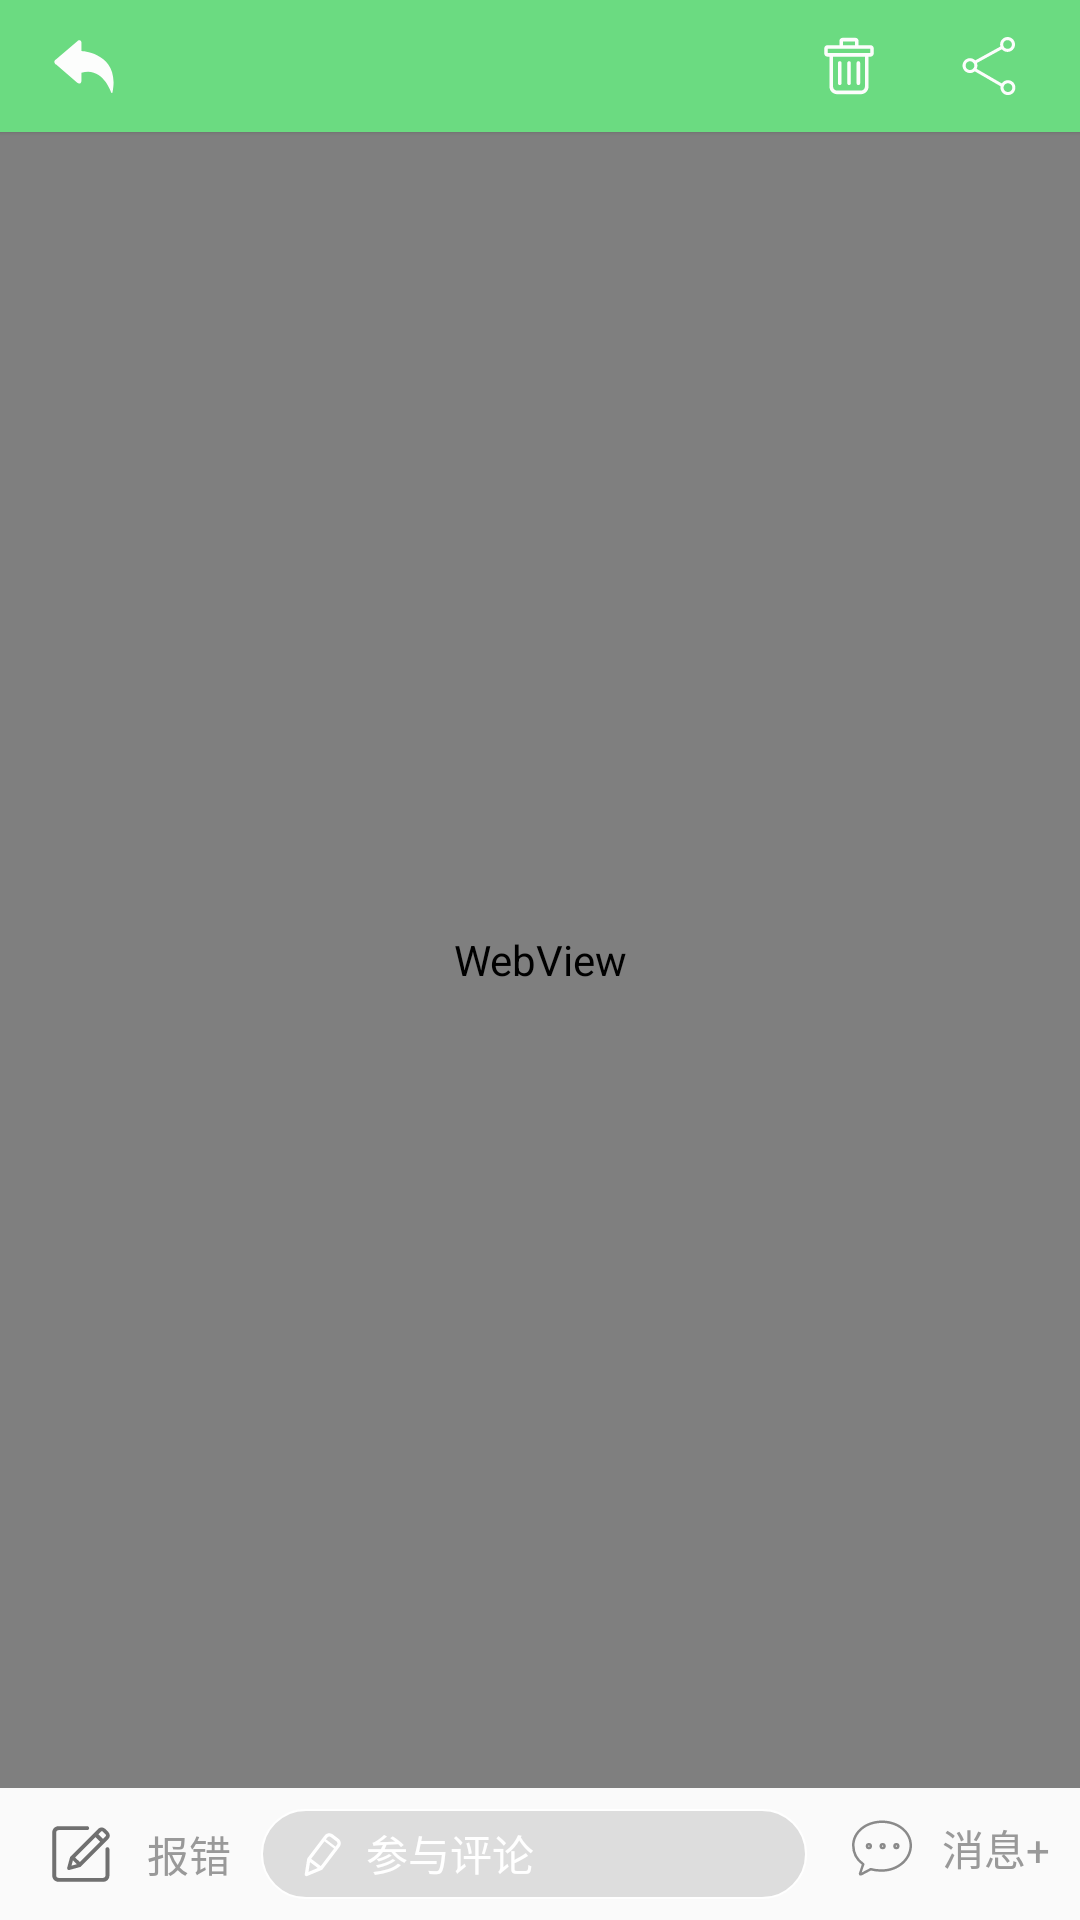

Screen size 1080px x 1920px. Icon name, then its center in pixels as (x=x, y=y):
delete: (x=849, y=66)
edit: (x=81, y=1854)
message: (x=882, y=1848)
share: (x=989, y=66)
